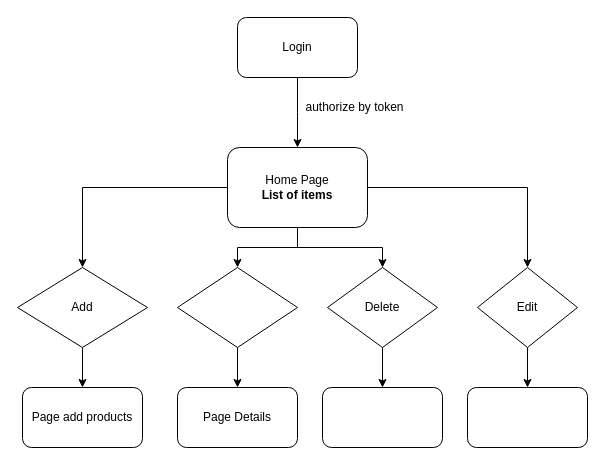
The diagram is 605 pixels wide and 465 high, and some of its shapes have lost their labels. Here are the shapes that lost their labels. From the top down, the box of each, then its label:
(176, 266, 298, 348): Details
(322, 386, 442, 448): Page delete
(466, 386, 588, 448): Page edit
